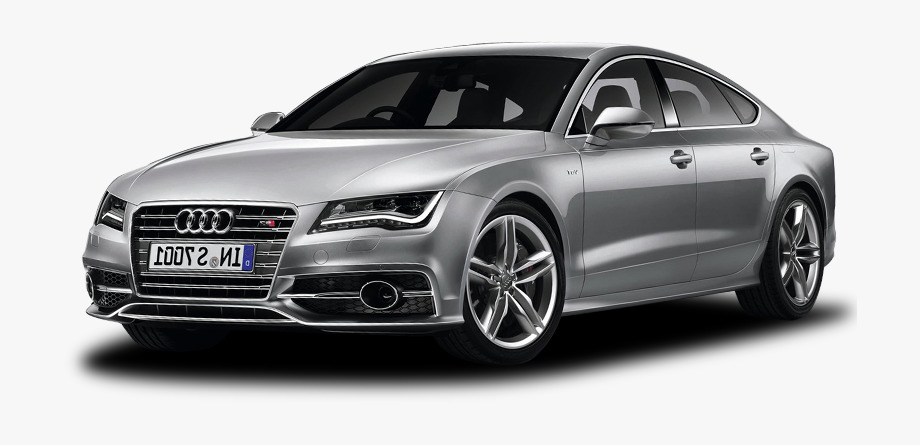audi: (51, 30, 845, 376)
